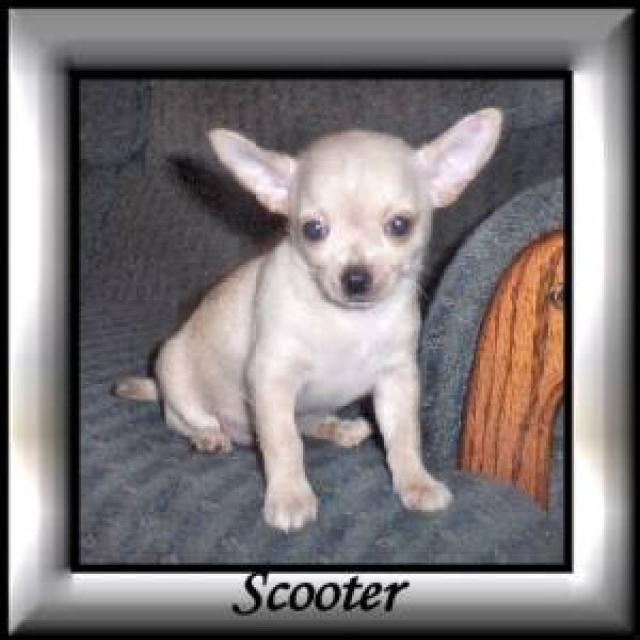dog-chihuahua: (111, 99, 503, 538)
